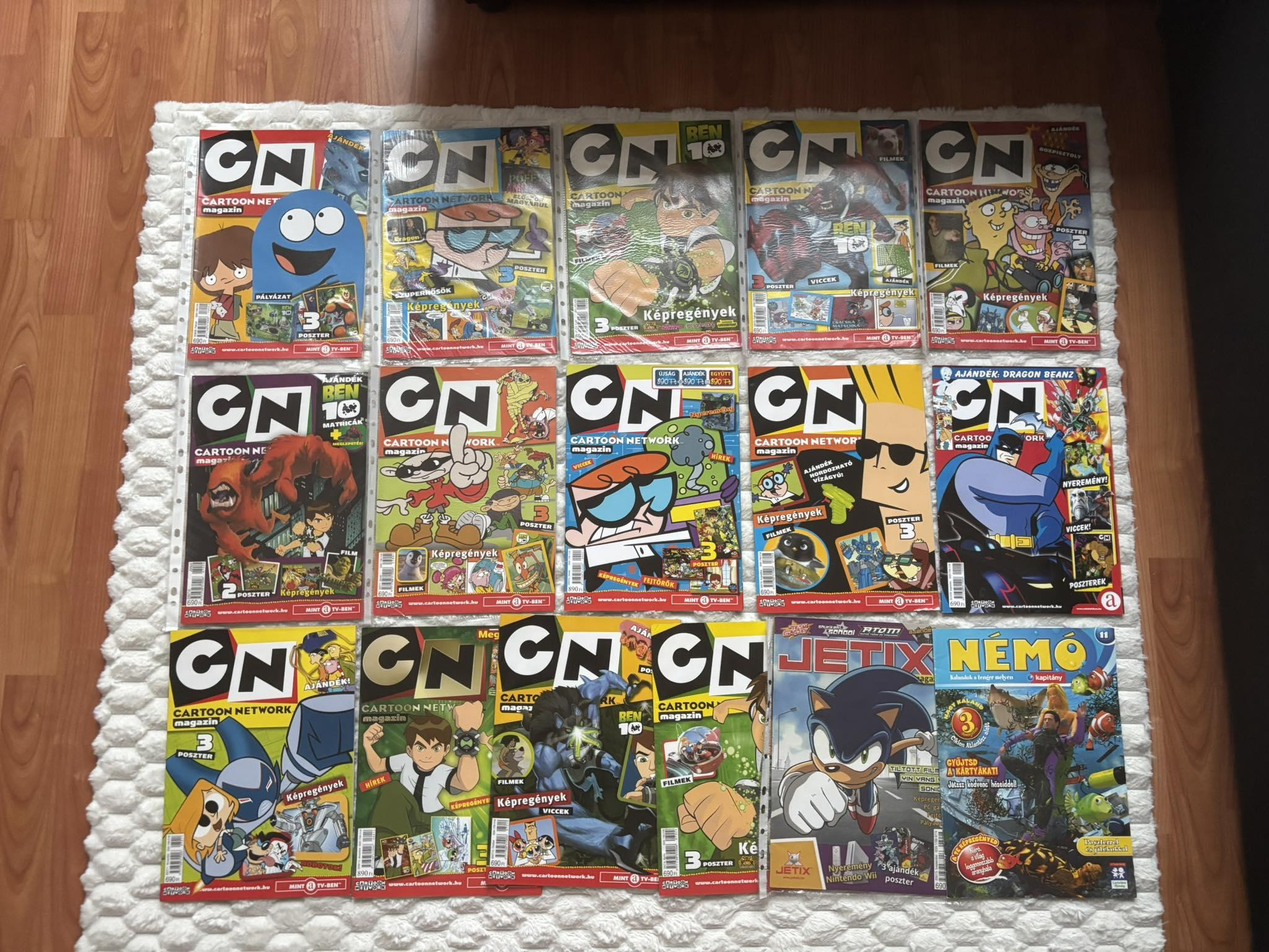comic: (930, 617, 1136, 910), (160, 621, 359, 906), (484, 610, 674, 894), (744, 358, 939, 619), (768, 616, 947, 895), (933, 362, 1123, 618), (179, 372, 368, 624), (372, 366, 556, 617), (561, 362, 743, 613), (186, 123, 372, 365), (374, 125, 558, 360), (562, 118, 742, 356), (920, 116, 1100, 353), (743, 115, 921, 352), (353, 624, 498, 900), (652, 621, 773, 896)
